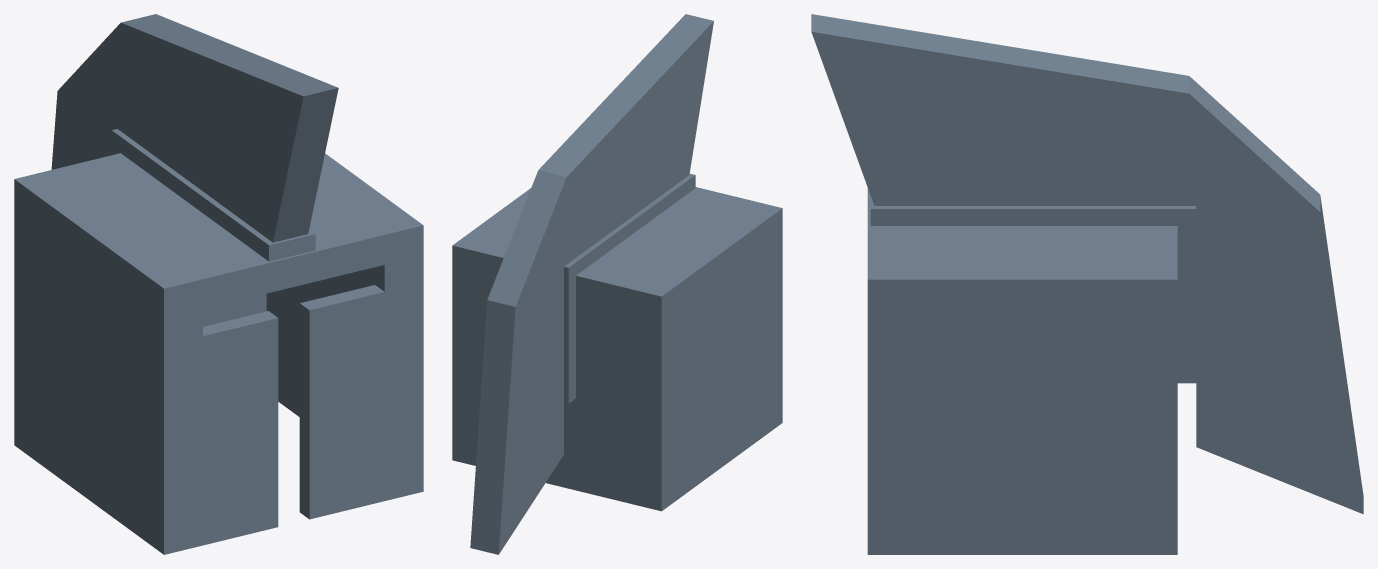
File: Helmet (1).fbx
3 views of the same model, side by side, from view 1: azimuth 30°, elevation 25°; view 2: azimuth 150°, elevation 25°; view 3: azimuth 270°, elevation 25° (orthographic). The views are drawn at different scales.
Parts seen in each view (by area): view 1: Model; view 2: Model; view 3: Model.
Boxes of the visible parts, x1=… form: Model: x1=14, y1=14, x2=423, y2=554; Model: x1=452, y1=14, x2=782, y2=554; Model: x1=811, y1=14, x2=1363, y2=554.
Size of the model in its own units: 1 by 1.72 by 1.78.
